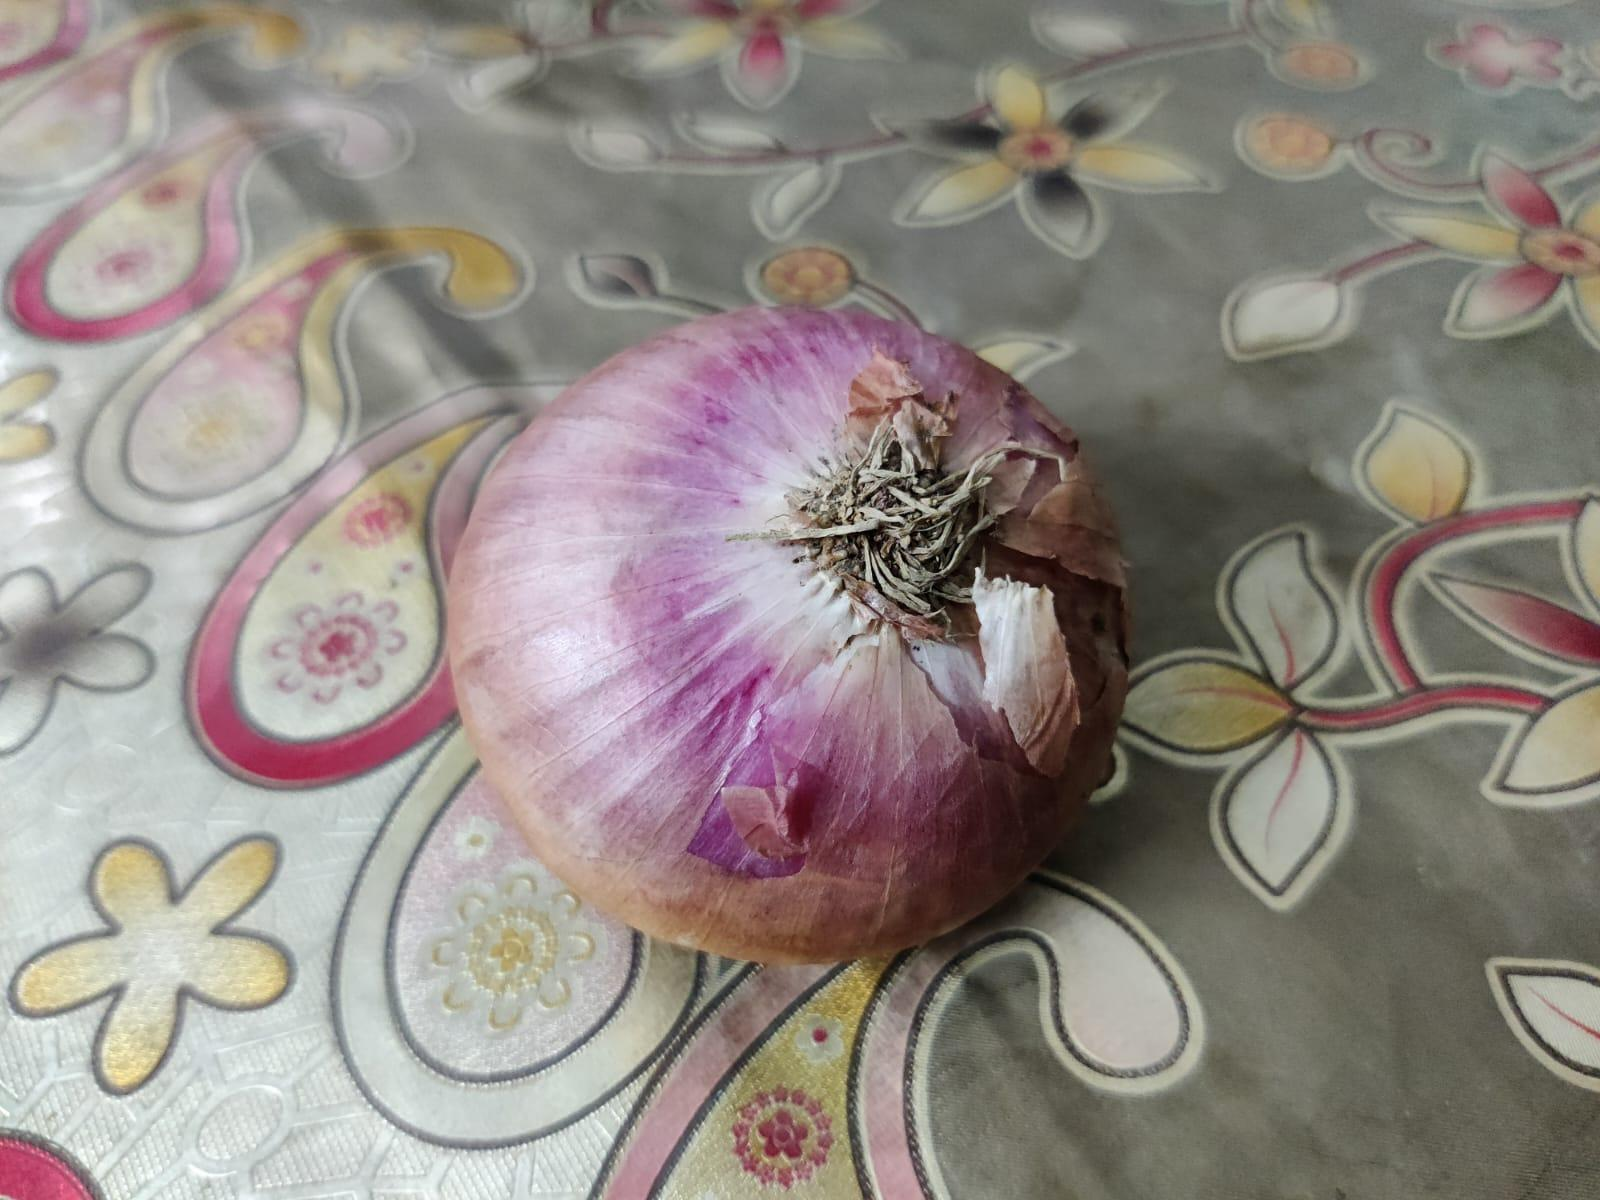non-mango: (430, 301, 1134, 963)
